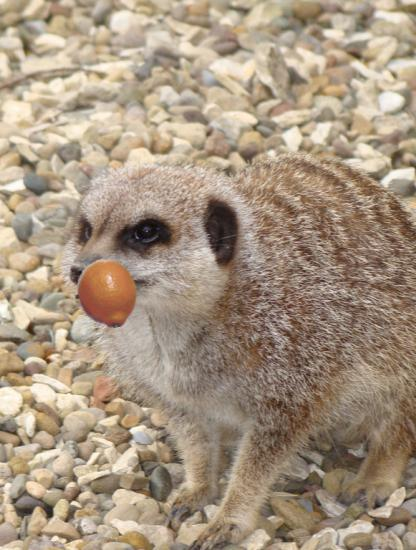Tangelo: (71, 259, 142, 330)
